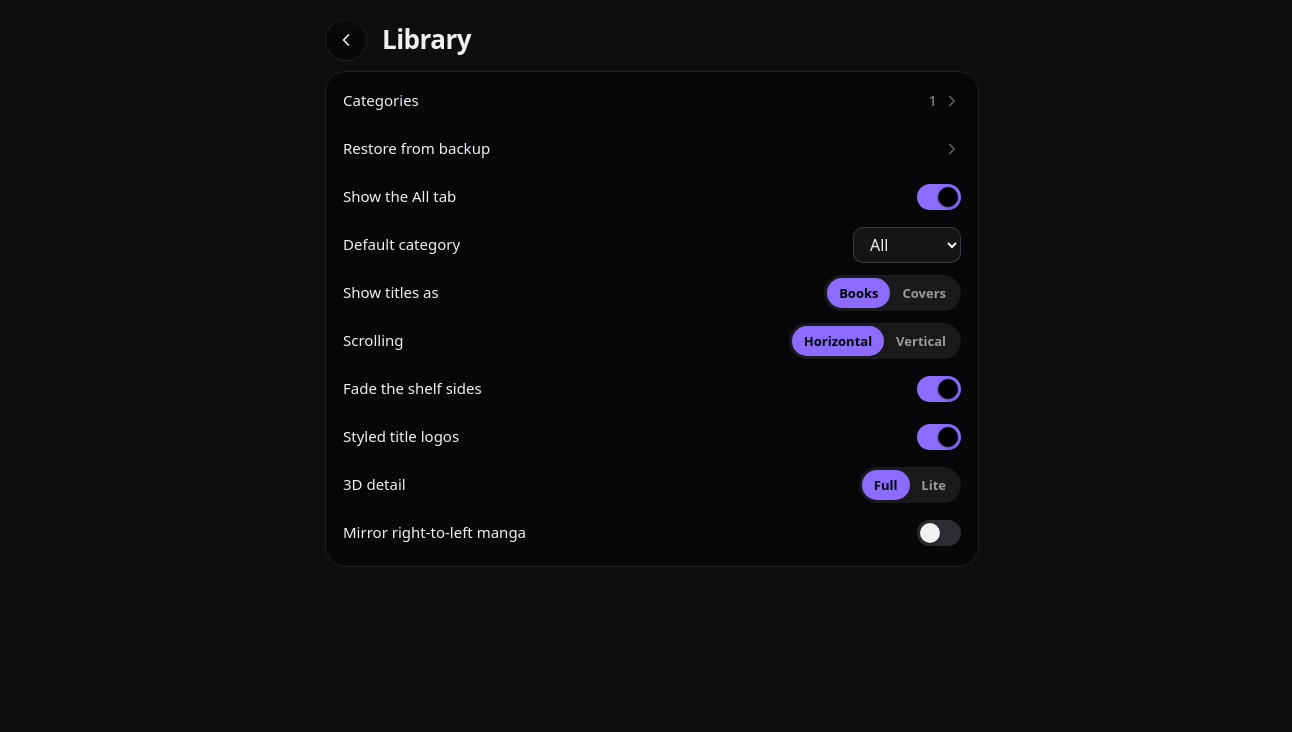
Test: Library › links to the categories, saying how many there are
Click the link with aria-label "Categories, 1": click(381, 100) x1=343 y1=90 x2=961 y2=110
(page scrolled)
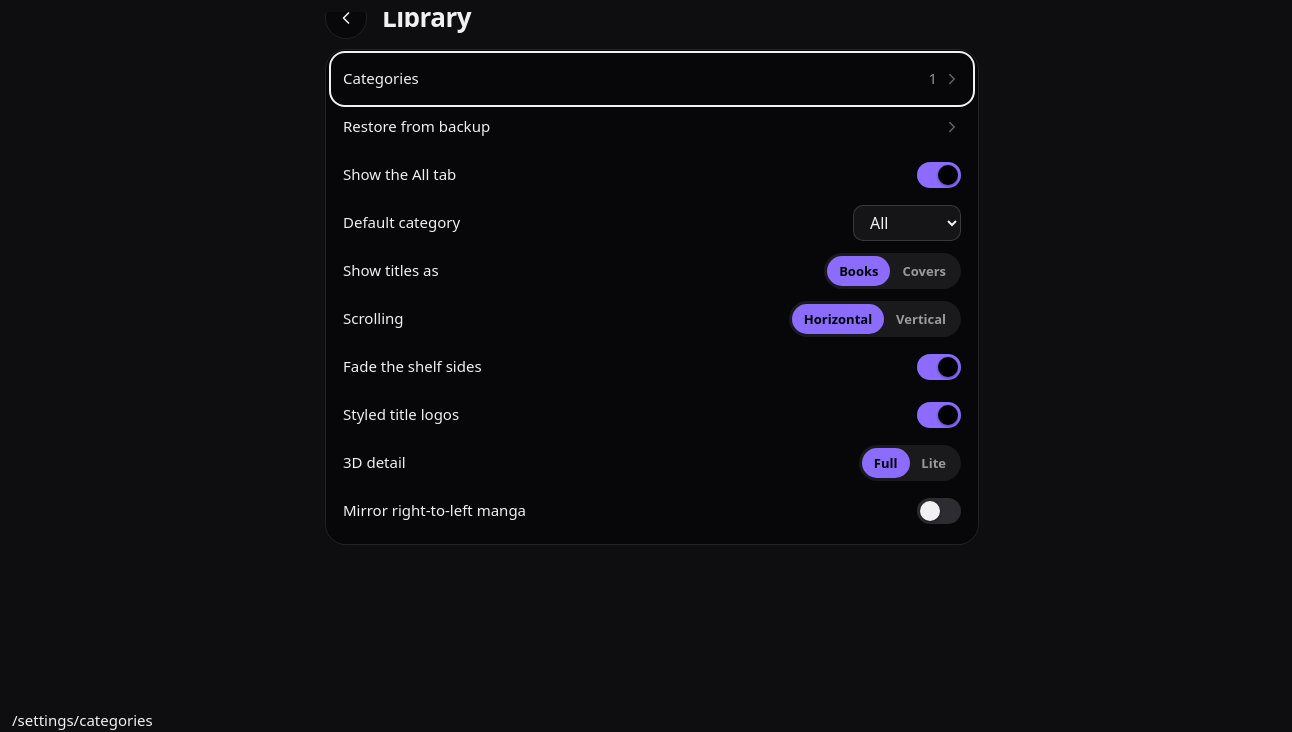
Now the text with test id "location" reads "/settings/categories", box x1=12 y1=710 x2=153 y2=730
